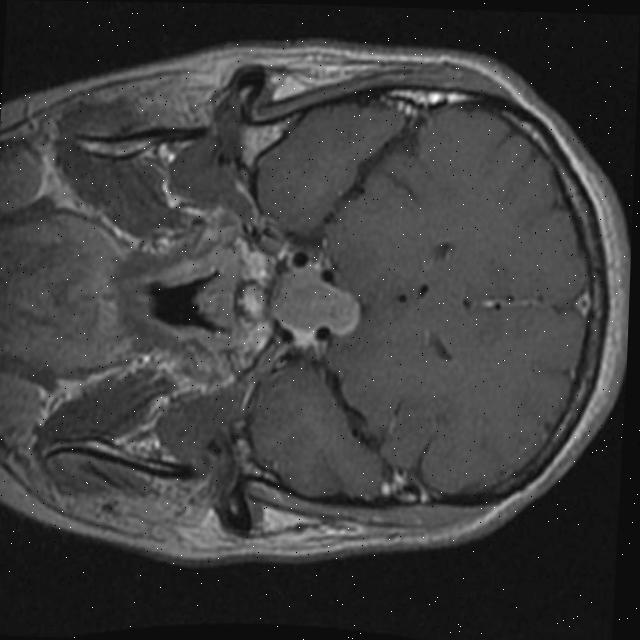Pituitary: (265, 265, 363, 337)
